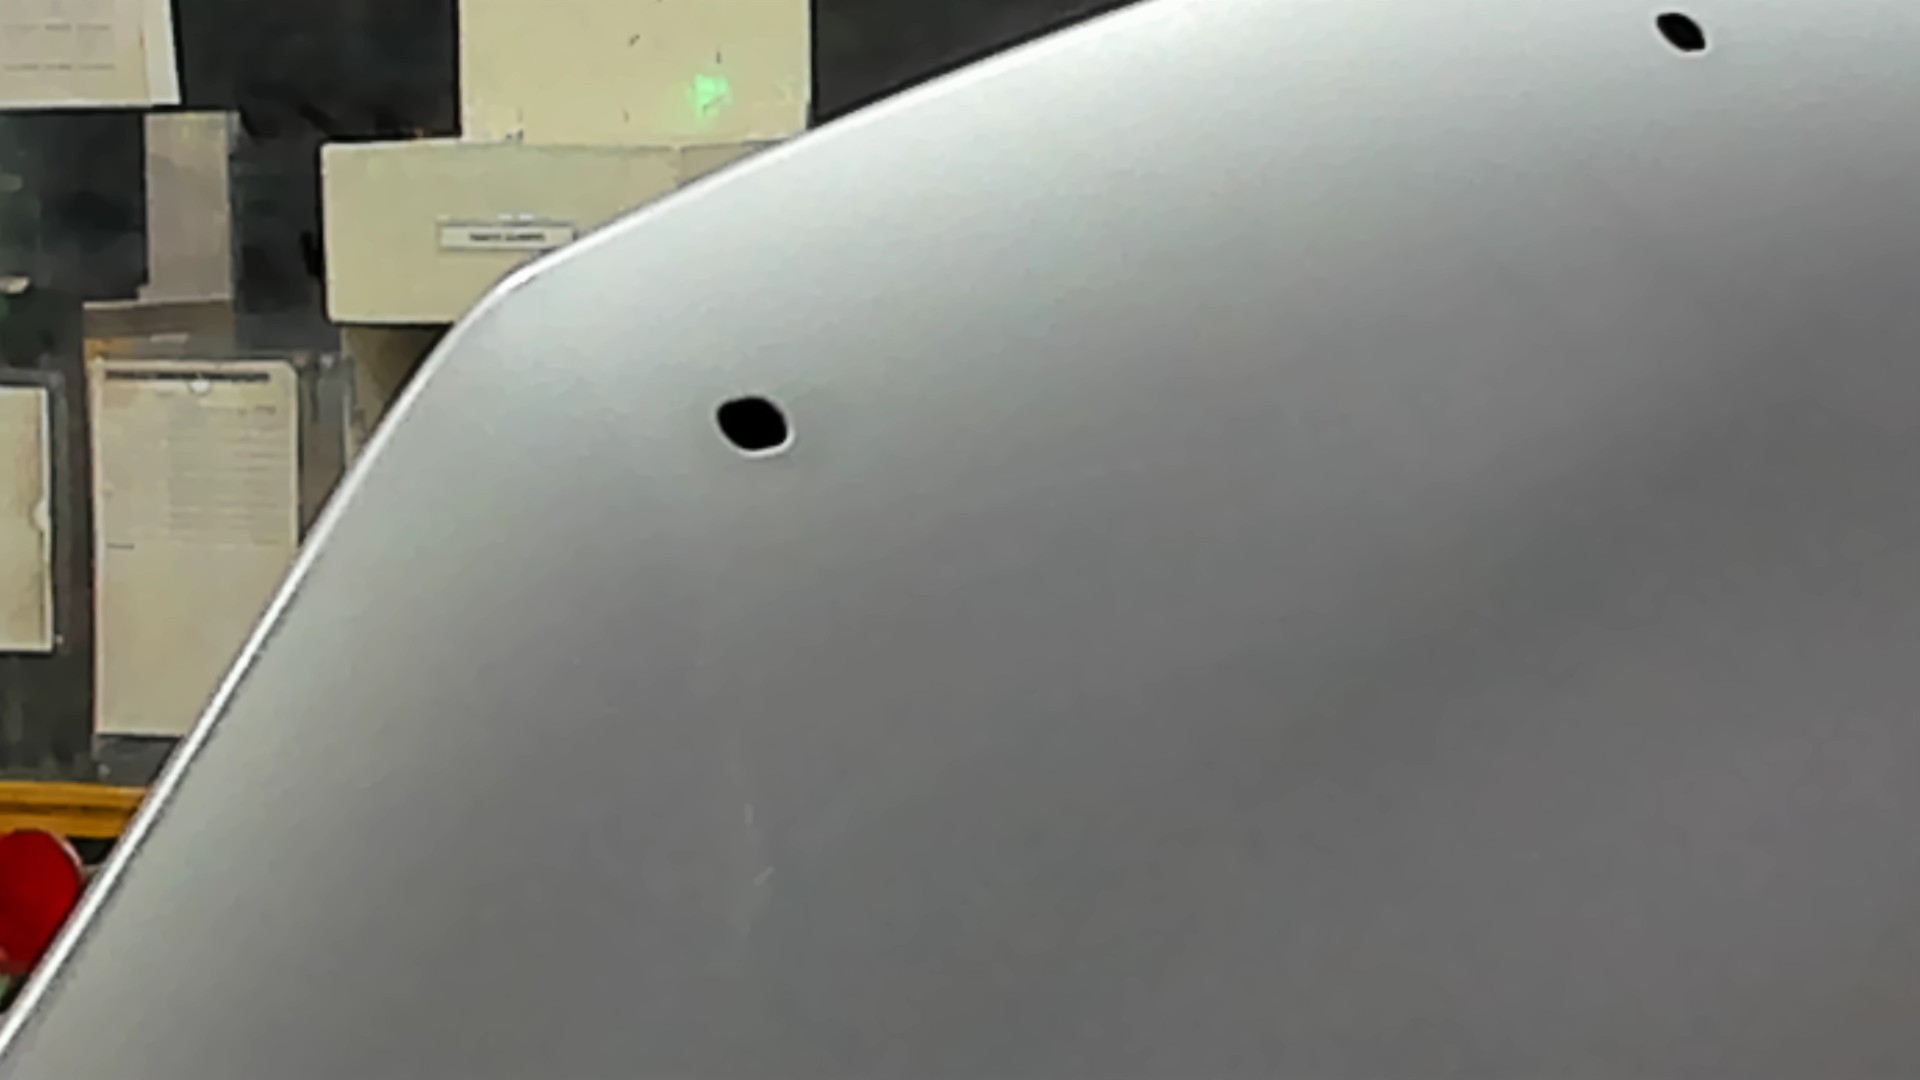chico: (709, 396, 804, 462), (1648, 5, 1716, 70)
